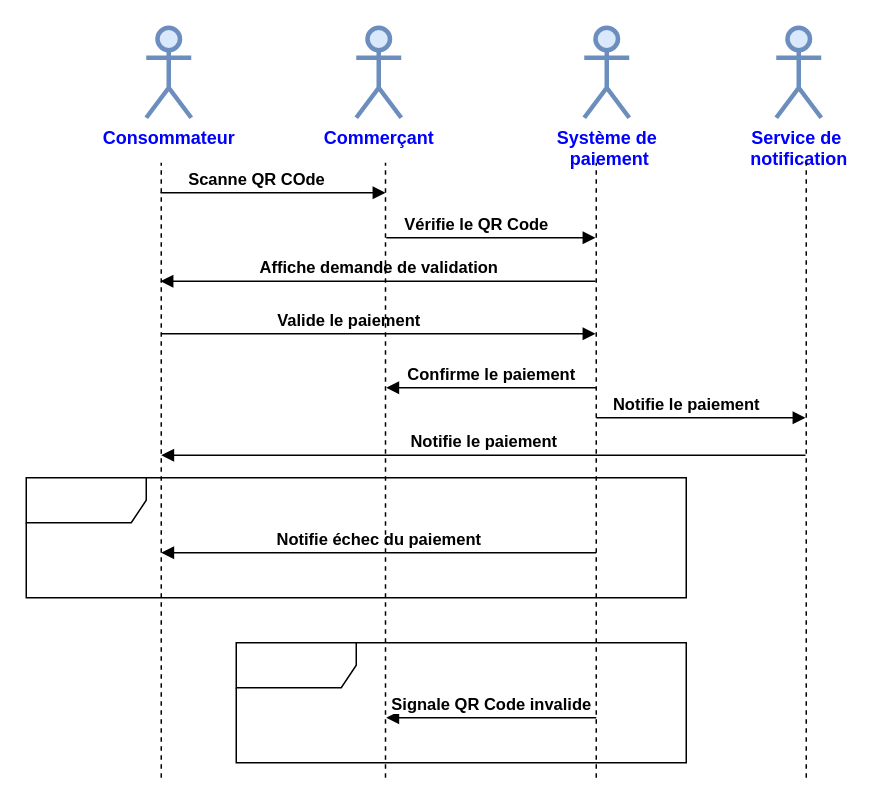
Some shapes in this 873 by 806 pixel diagram are drawn without their labels. Here are the shapes that lost their labels. From the top down, the centre of each, then its label:
At point (355, 537): "alt [solde insuffisant]".
At point (460, 702): "alt [QR Code invalide]".
